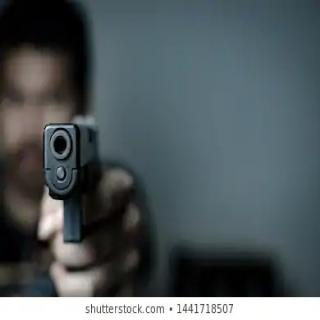gun: (34, 111, 102, 263)
